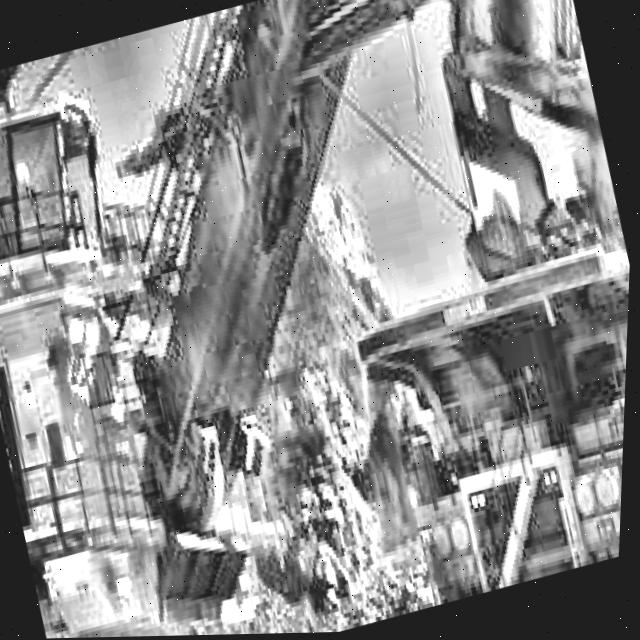dump_truck: (306, 188, 634, 620)
